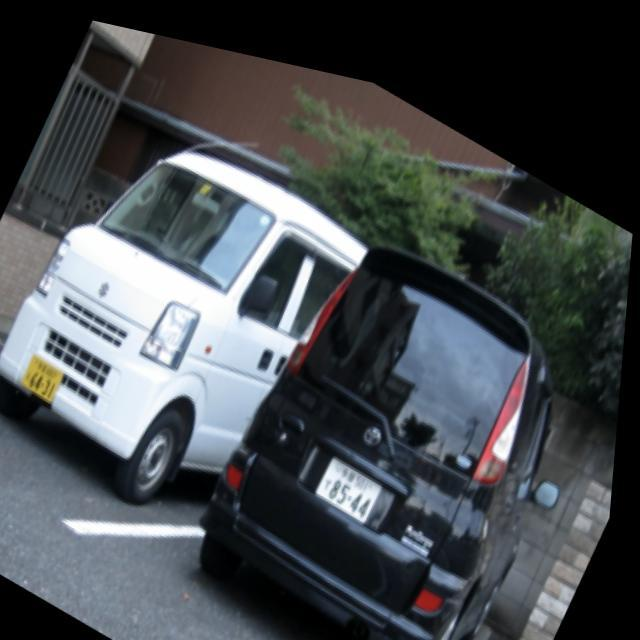license_plate: (320, 433, 390, 508), (24, 348, 72, 398)
